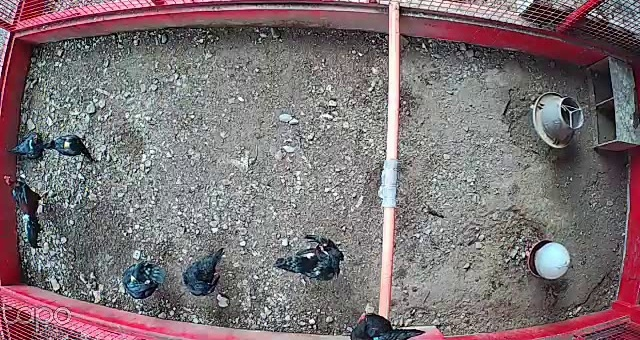Chicken: (270, 237, 350, 284), (341, 306, 426, 340), (180, 246, 234, 296), (117, 252, 166, 302), (43, 128, 96, 168), (6, 124, 51, 162)
Rooster: (3, 174, 51, 254)
Saddle_Color_Yellow: (64, 137, 73, 147)
